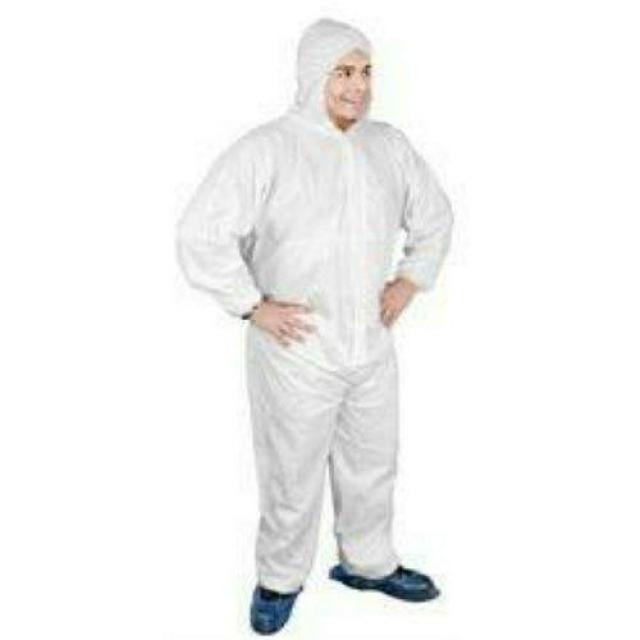Coverall: (161, 13, 457, 634)
